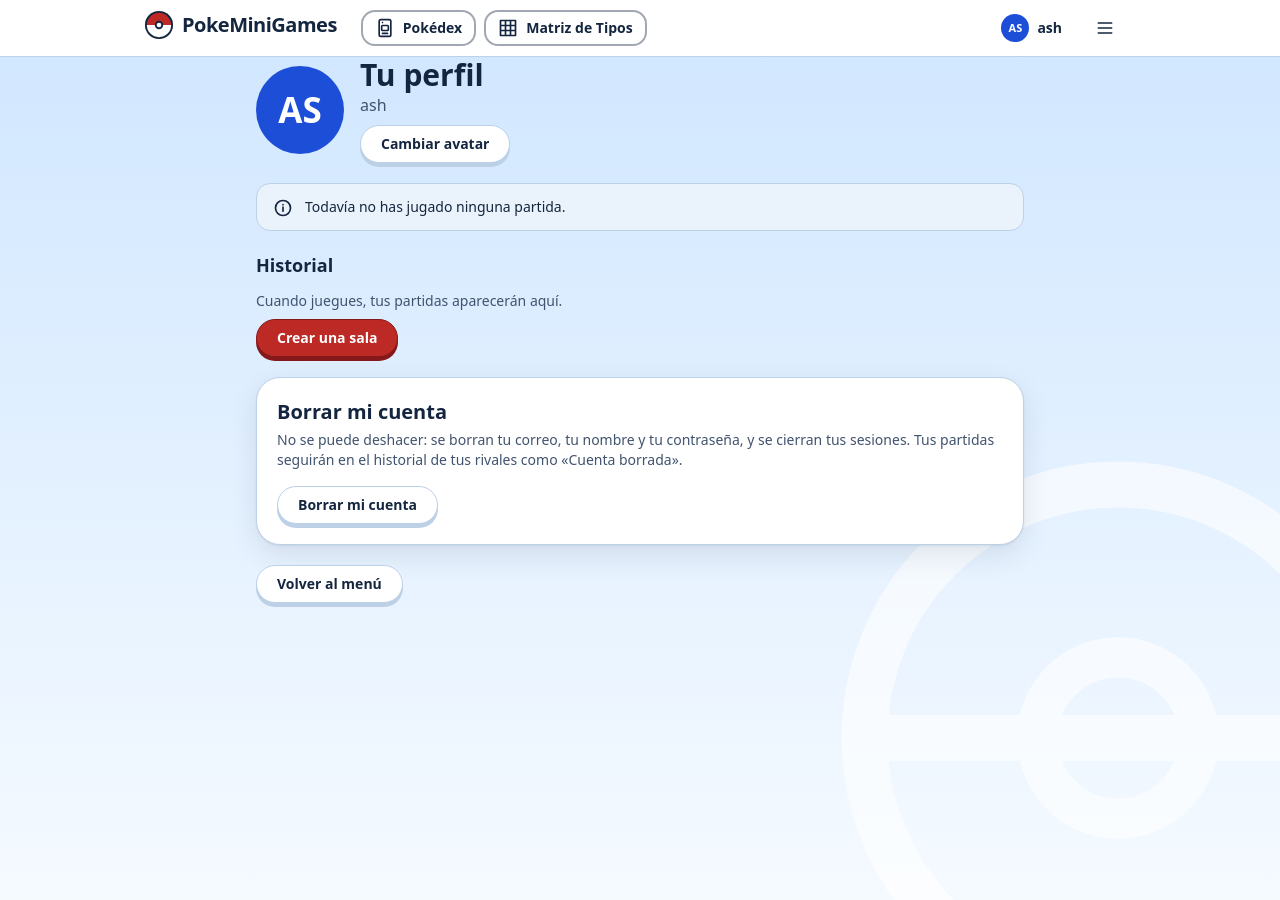
Scenario: la ventana «Elige tu avatar» › Escape y «Cerrar» la cierran y el foco vuelve a «Cambiar avatar»
This screenshot has width=1280, height=900.
Click the button "Cambiar avatar".
click(435, 144)  # box top-left (360, 125), bottom-right (510, 163)
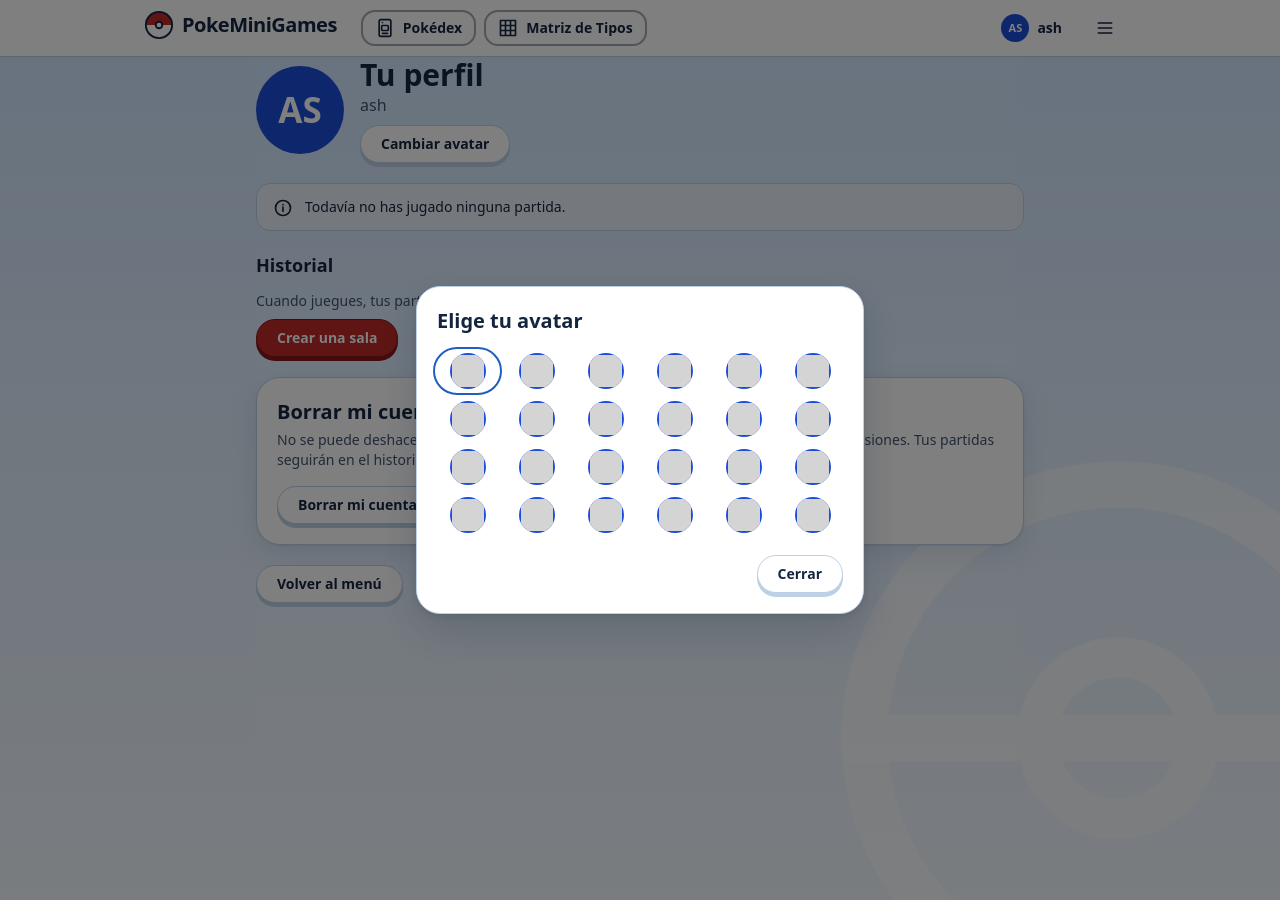
Press Escape
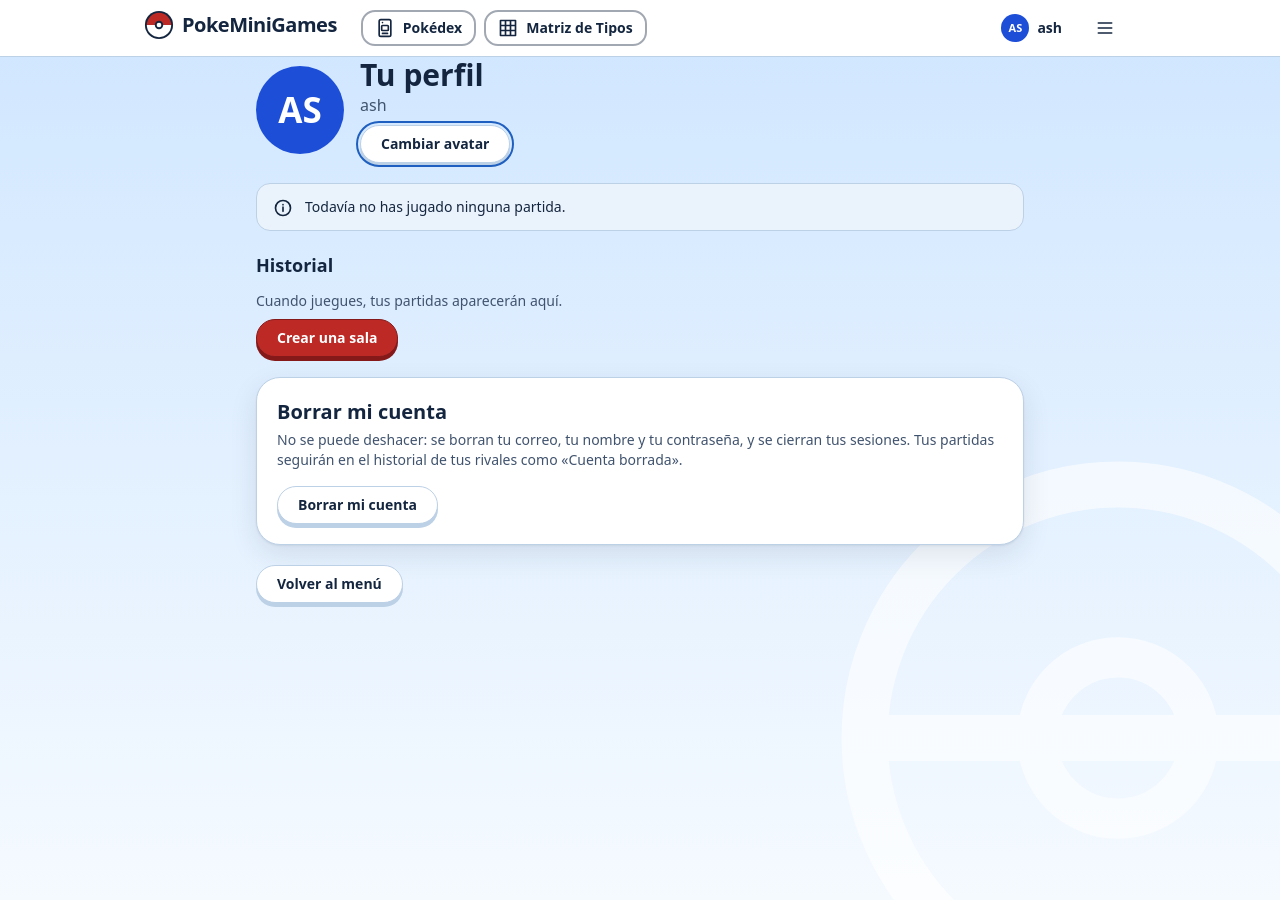
Now the dialog is gone
Click the button "Cambiar avatar".
click(435, 144)  # box top-left (360, 125), bottom-right (510, 163)
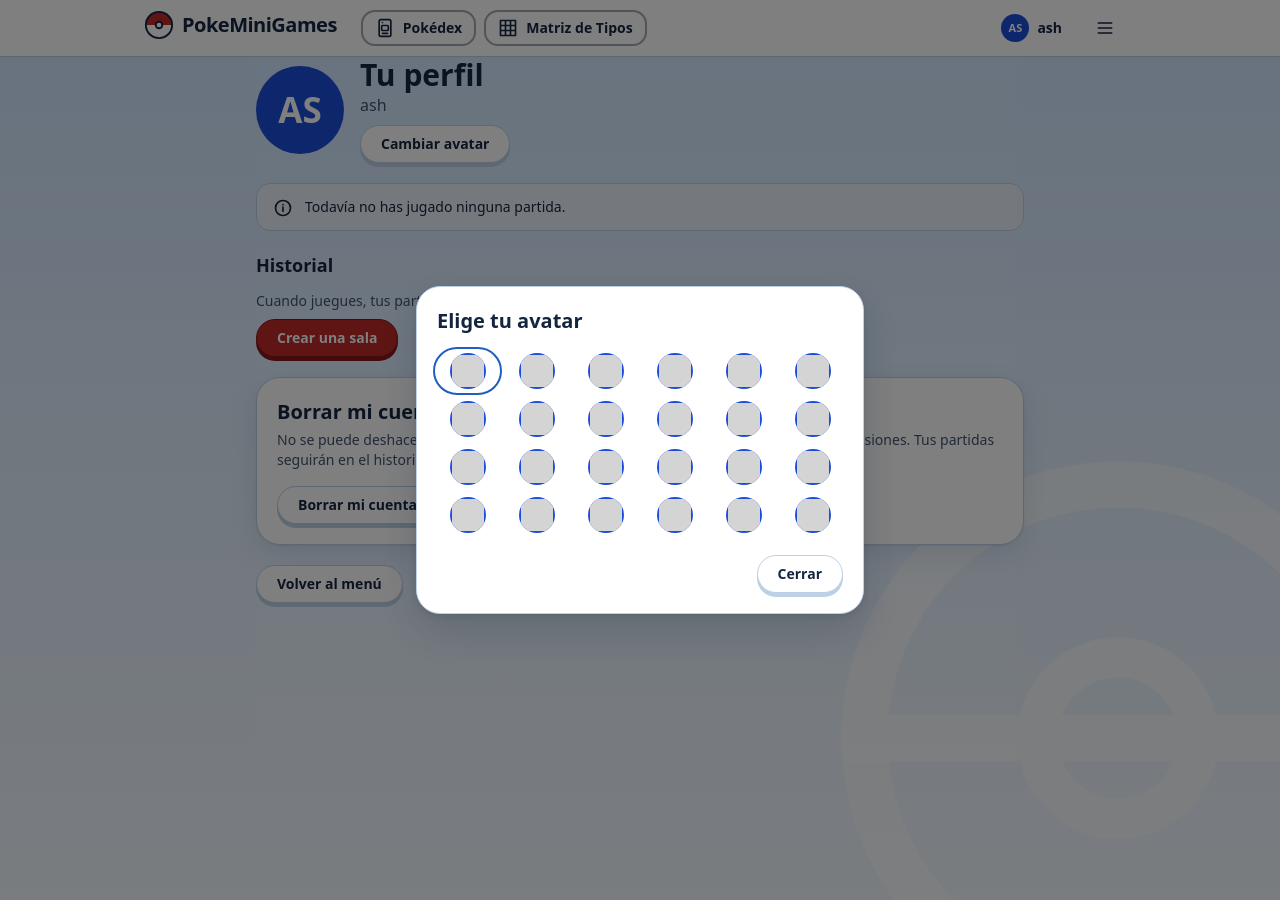
Click the button "Cerrar".
click(800, 574)  # box top-left (757, 555), bottom-right (843, 593)
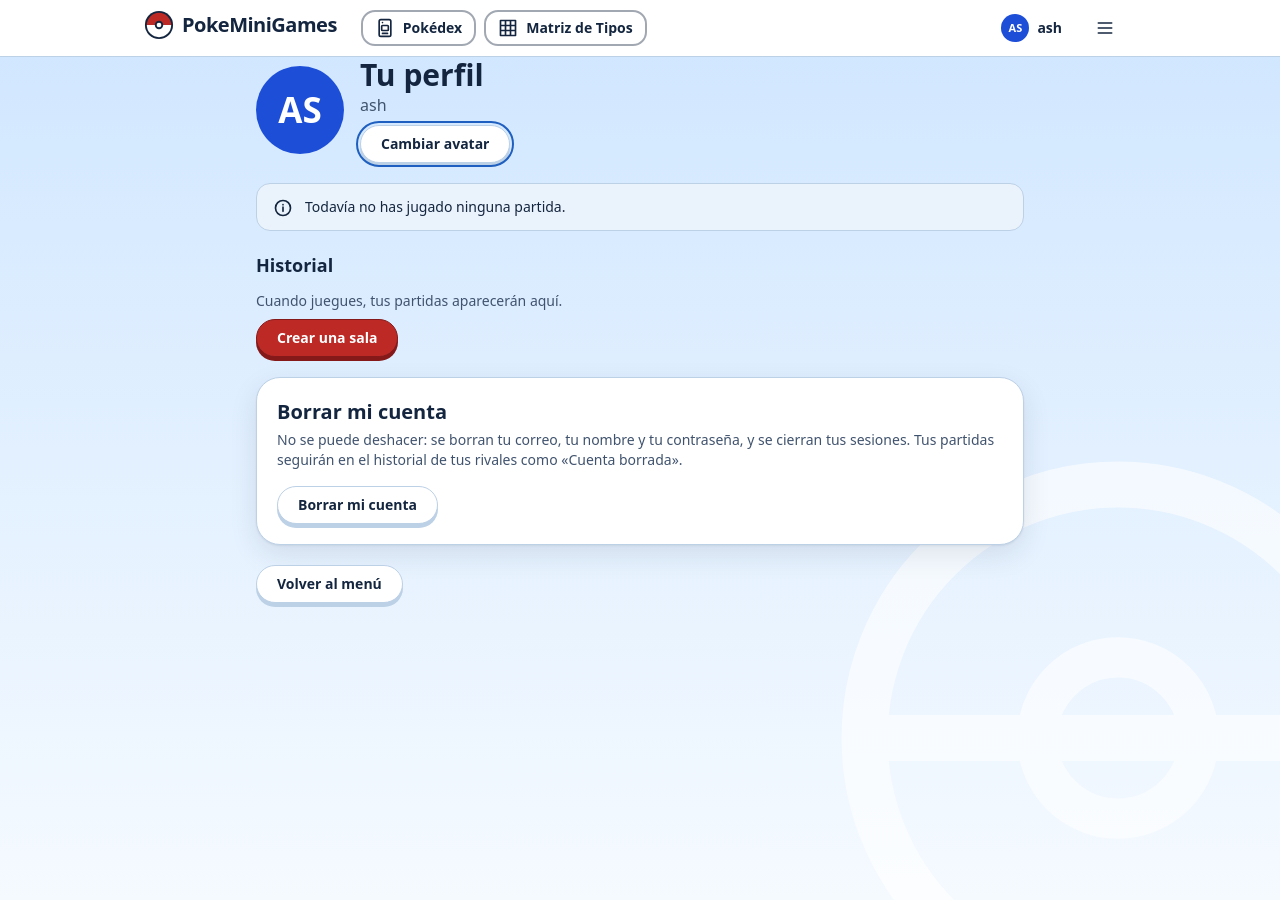
Now the dialog is gone
